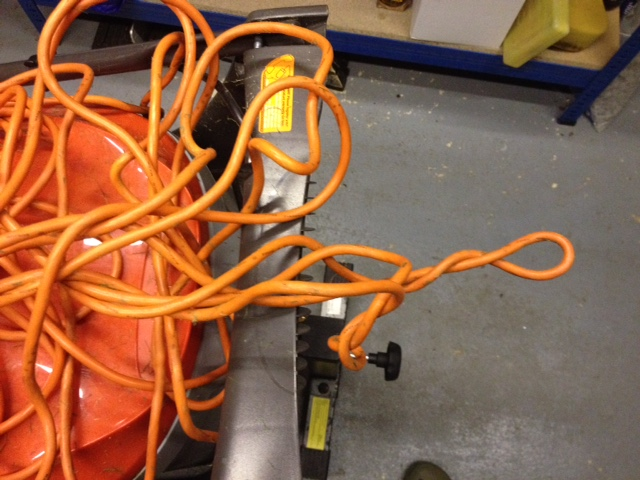more_tube: (49, 4, 352, 217), (11, 59, 233, 341)
